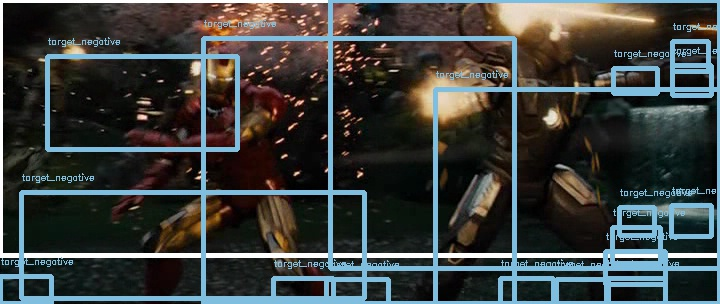person: (198, 44, 240, 91), (197, 44, 239, 91), (199, 44, 241, 91), (198, 43, 240, 90), (198, 45, 240, 92)
target_negative: (172, 44, 632, 293), (611, 23, 717, 263), (325, 276, 639, 300), (492, 71, 563, 119), (57, 292, 261, 301), (663, 198, 689, 236)
